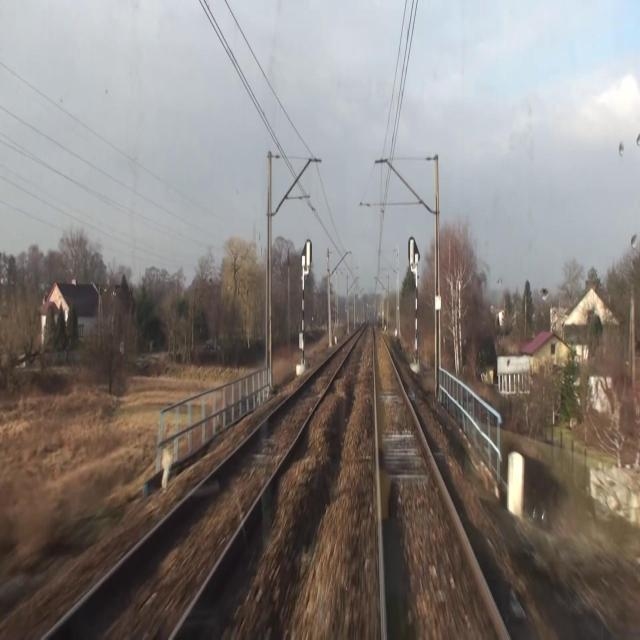rail-track: (47, 328, 361, 639), (374, 322, 504, 639)
